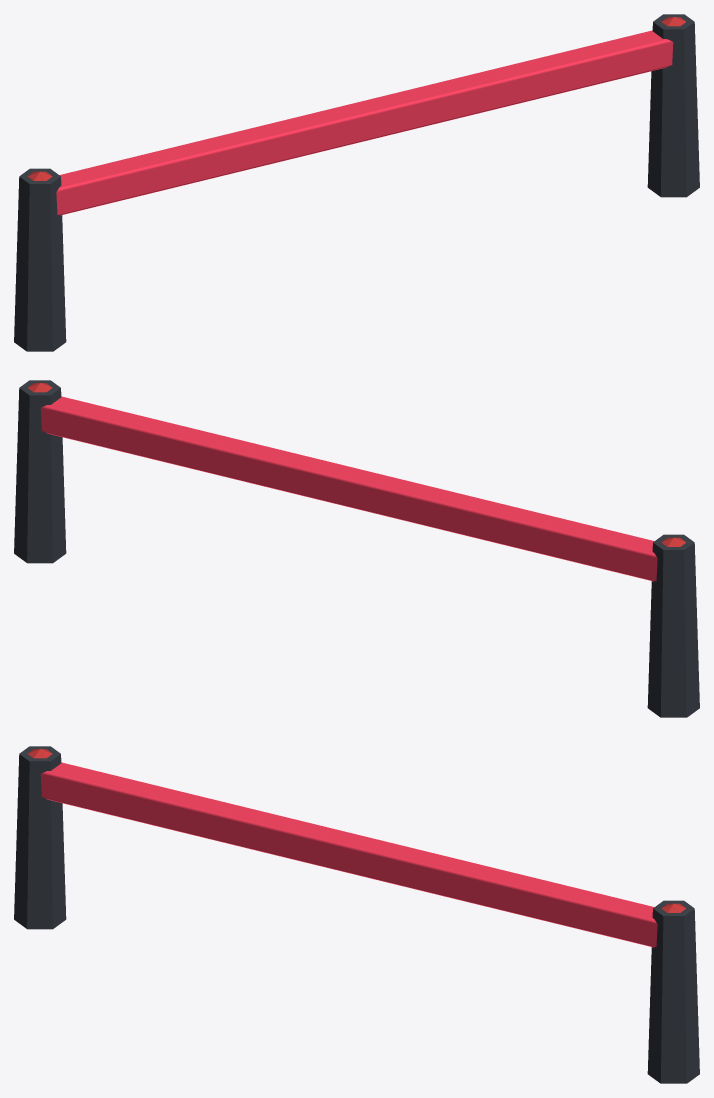
The model's file is wire_snare.glb.
3 renders of one model, top to bottom at view 1: azimuth 30°, elevation 25°; view 2: azimuth 150°, elevation 25°; view 3: azimuth 330°, elevation 25°, orthographic.
Visible parts, largest first — view 1: wire_glow, post_0, post_1; view 2: wire_glow, post_0, post_1; view 3: wire_glow, post_1, post_0.
Boxes of the visible parts, x1=… form: wire_glow: x1=56, y1=30, x2=673, y2=215; post_0: x1=14, y1=168, x2=66, y2=351; post_1: x1=647, y1=14, x2=699, y2=197; wire_glow: x1=40, y1=396, x2=657, y2=581; post_0: x1=647, y1=534, x2=699, y2=717; post_1: x1=14, y1=380, x2=66, y2=563; wire_glow: x1=40, y1=762, x2=657, y2=947; post_1: x1=647, y1=900, x2=699, y2=1083; post_0: x1=14, y1=746, x2=66, y2=929.
Size of the model in its own units: 1.49 by 0.36 by 0.1.
